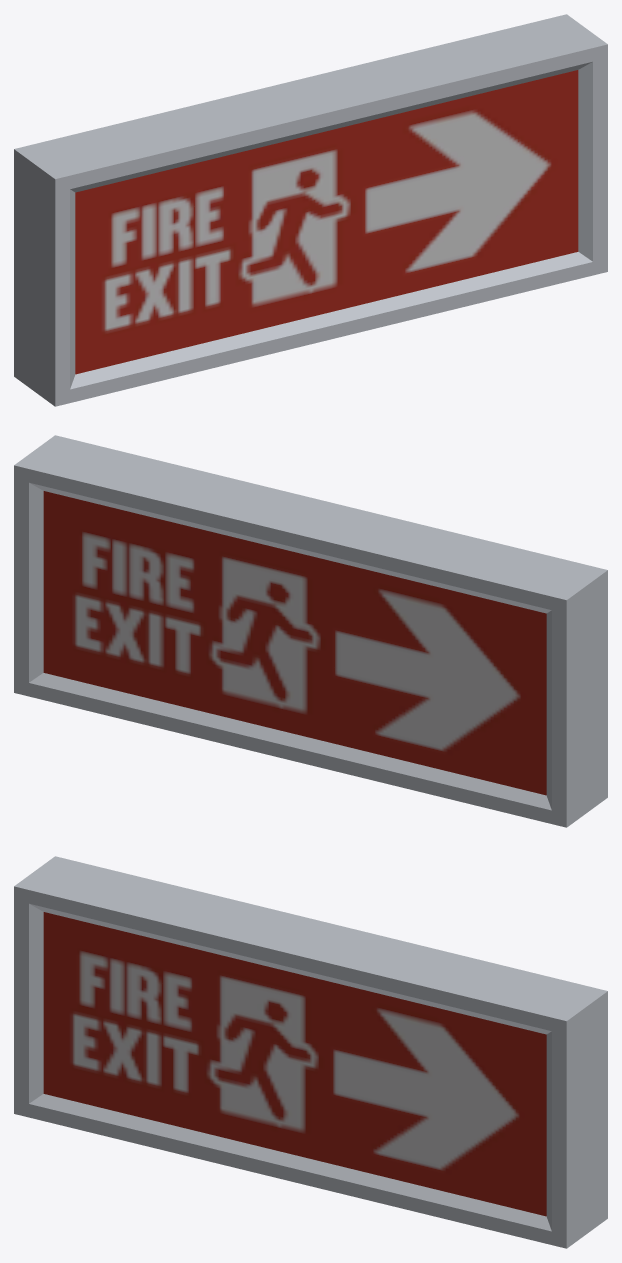
Rendered from SM_Sign_Exit_Fire_01.obj.
The picture shows the model from 3 angles, top to bottom: view 1: azimuth 30°, elevation 25°; view 2: azimuth 150°, elevation 25°; view 3: azimuth 330°, elevation 25°; orthographic projection.
Parts seen in each view (by area): view 1: SM_Sign_Exit_Fire_01_0; view 2: SM_Sign_Exit_Fire_01_0; view 3: SM_Sign_Exit_Fire_01_0.
Part boxes in pixels (left/top/right/bottom): SM_Sign_Exit_Fire_01_0: left=14, top=14, right=607, bottom=406; SM_Sign_Exit_Fire_01_0: left=14, top=435, right=607, bottom=827; SM_Sign_Exit_Fire_01_0: left=14, top=856, right=607, bottom=1248.
Size of the model in its own units: 0.8481 by 0.3336 by 0.1095.
Materials: 1 (1 with a texture image).
